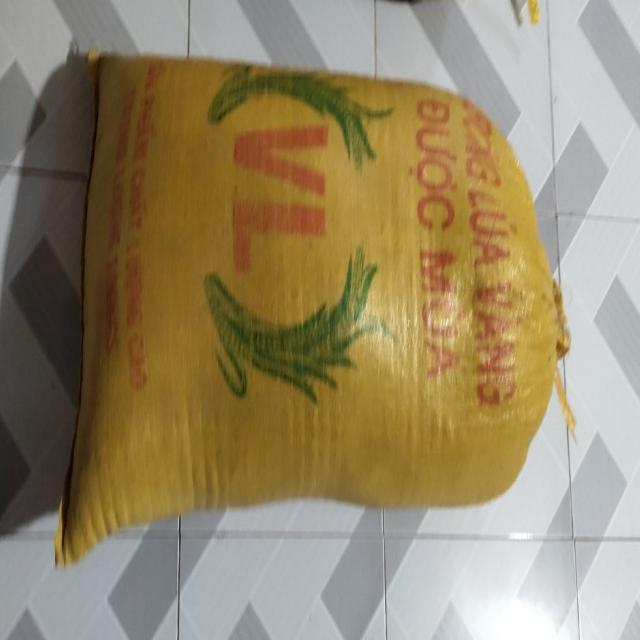gunny_bag: (55, 53, 570, 566)
